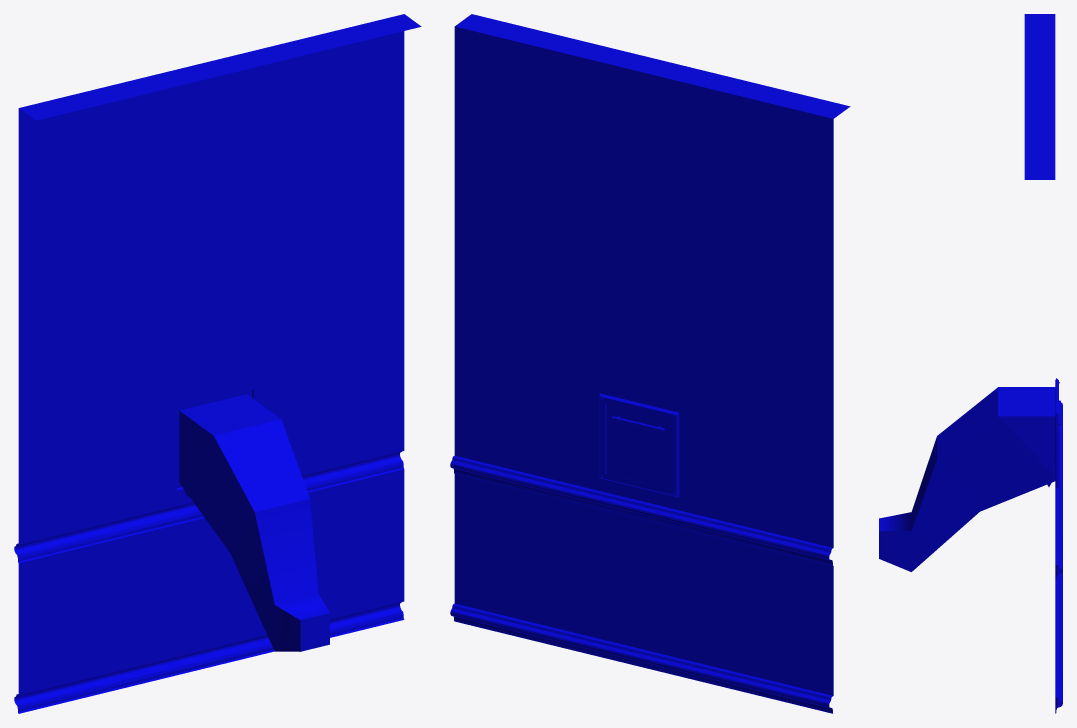
Rendered from SetoModWallLaundryShoot2 1.fbx.
3 renders of one model, left to right at view 1: azimuth 30°, elevation 25°; view 2: azimuth 150°, elevation 25°; view 3: azimuth 270°, elevation 25°, orthographic. The views are drawn at different scales.
Parts seen in each view (by area): view 1: ModWallLaundryShoot2; view 2: ModWallLaundryShoot2, LaundryDoor1; view 3: ModWallLaundryShoot2.
Boxes of the visible parts, bbox=[...] form: ModWallLaundryShoot2: bbox=[14, 14, 421, 713]; ModWallLaundryShoot2: bbox=[450, 14, 850, 713]; LaundryDoor1: bbox=[606, 403, 671, 489]; ModWallLaundryShoot2: bbox=[879, 14, 1062, 713].
Size of the model in its own units: 240 by 360 by 112.
